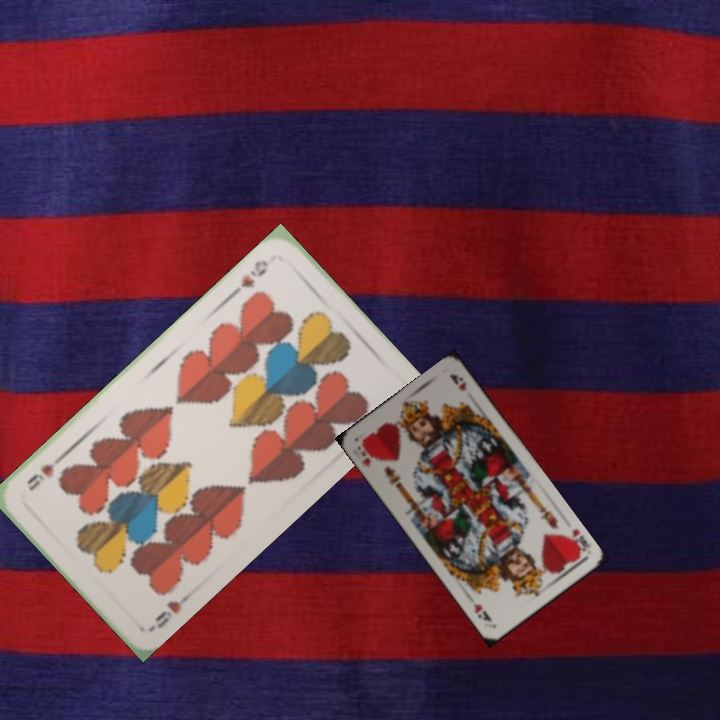H9: (145, 588, 194, 634), (236, 255, 271, 292)
HK: (560, 525, 593, 559), (352, 437, 380, 470)
